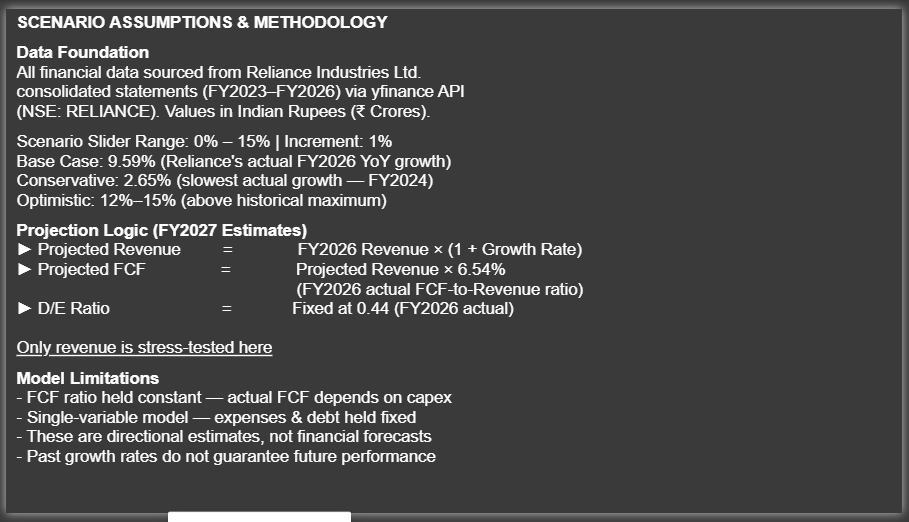

This screenshot's page, from the dashboard's own definition file:
{"tool":"powerbi","page":{"name":"Assumptions and Methodology ","canvas":[1280,720],"ordinal":1},"visuals":[{"type":"textbox","box":[9.9,0,1269.9,720],"z":0}]}

Visuals, with their boxes in screenshot pixels (x1, y1, x2, y2), scaled from the page's 1280x720 canvas onto the 909x522 screenshot:
textbox: <region>7, 0, 908, 521</region>
